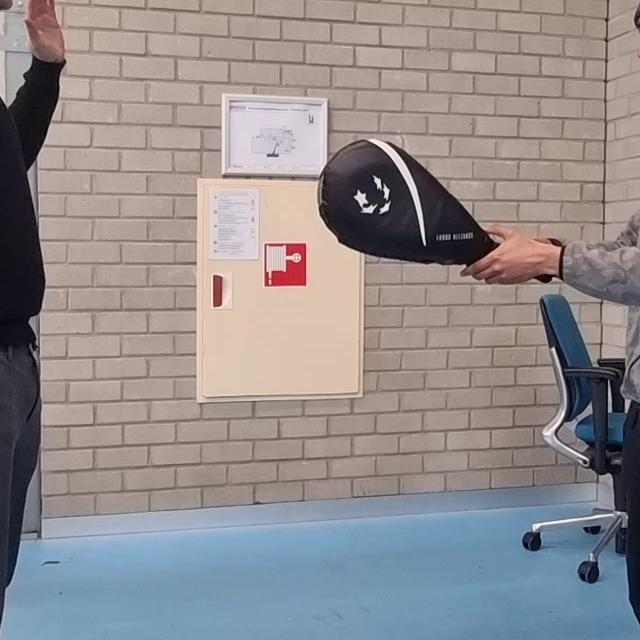paddle: (319, 137, 496, 265)
